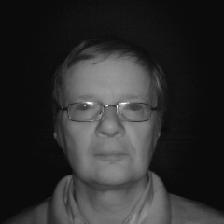normal: (37, 29, 175, 190)
